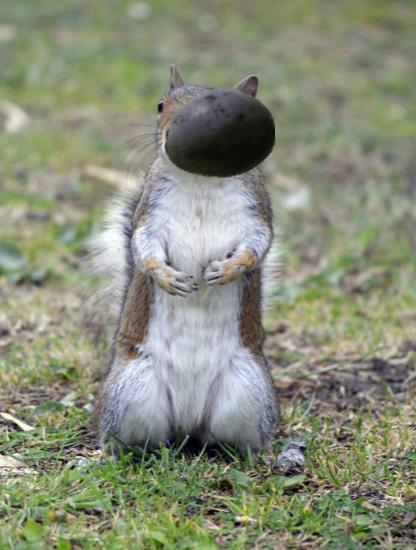Plum: (164, 78, 276, 190)
